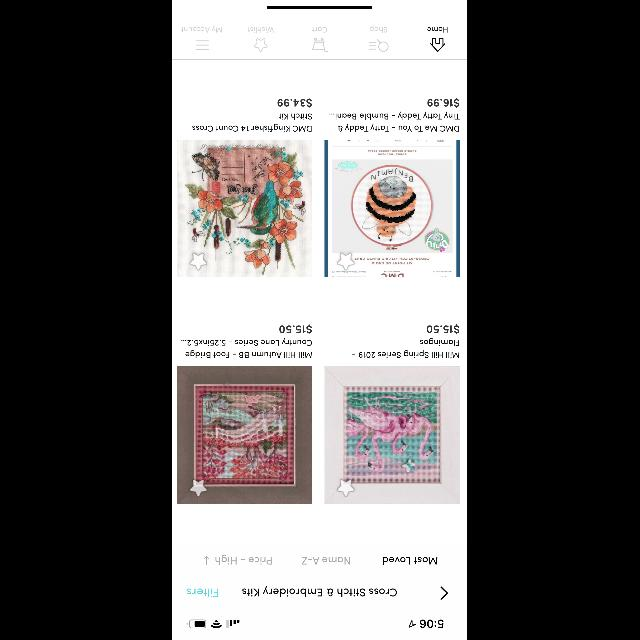icon: (190, 253, 208, 270), (338, 253, 356, 270), (190, 479, 208, 496), (338, 479, 356, 496), (369, 40, 389, 52), (313, 38, 329, 52), (432, 38, 446, 52), (255, 38, 268, 52), (197, 40, 210, 50), (442, 586, 448, 600), (205, 556, 209, 564)
image: (178, 140, 312, 278), (326, 140, 460, 278), (178, 366, 312, 504), (326, 366, 460, 504)
text: (330, 112, 460, 132), (182, 338, 312, 358), (193, 114, 313, 132), (354, 338, 461, 358), (242, 586, 398, 596), (216, 555, 272, 565), (384, 557, 438, 565), (278, 98, 312, 108), (428, 98, 460, 108), (280, 324, 312, 334), (428, 324, 460, 334), (188, 588, 218, 598), (302, 558, 350, 564), (182, 26, 222, 32), (248, 27, 274, 33), (370, 26, 388, 32), (428, 28, 448, 32), (312, 28, 328, 32)
uppertaskbar: (188, 620, 444, 628)
